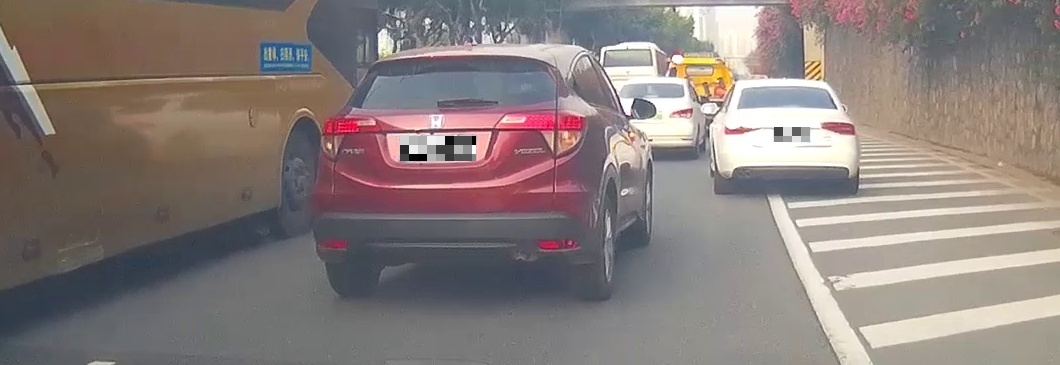L_light: (320, 114, 383, 163), (724, 124, 761, 135)
R_light: (492, 108, 587, 158), (821, 121, 854, 136)
T_light: (426, 52, 469, 61), (777, 85, 799, 90)
day-left: (720, 78, 857, 193)
day-no: (311, 43, 592, 299)
plate_1: (400, 136, 476, 161)
plate_2: (774, 127, 810, 142)
